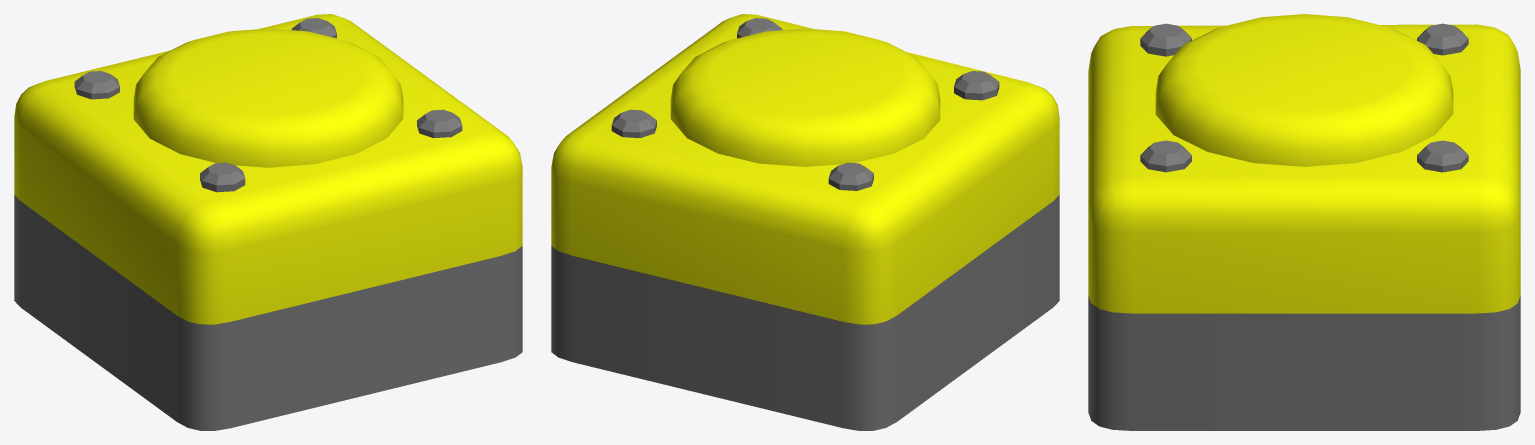
File: factory_button_base.fbx
The picture shows the model from 3 angles, left to right: view 1: azimuth 30°, elevation 25°; view 2: azimuth 150°, elevation 25°; view 3: azimuth 270°, elevation 25°; orthographic projection. The views are drawn at different scales.
Parts seen in each view (by area): view 1: Screw.002; view 2: Screw.002; view 3: Screw.002.
Part boxes in pixels (x1,y1,x2,y2): Screw.002: (14,14,522,430); Screw.002: (551,14,1059,430); Screw.002: (1088,14,1520,430).
Bounding box in the file's own units: 50 × 35.07 × 50.
